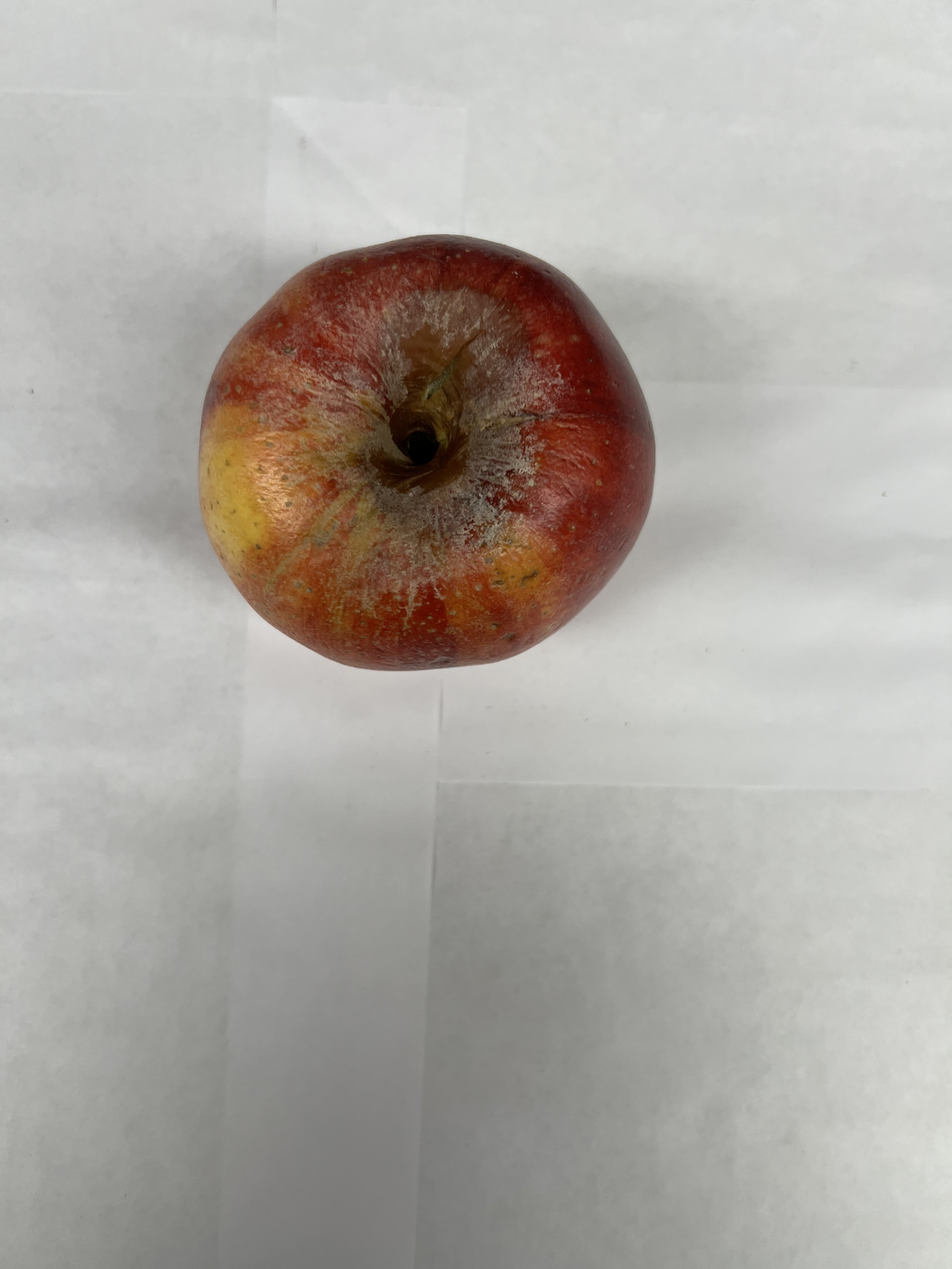visible_cut: (299, 295, 551, 574)
